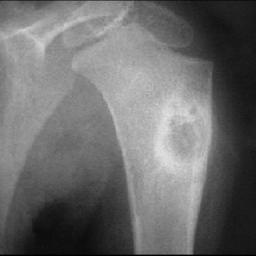cancer: (153, 96, 207, 171)
